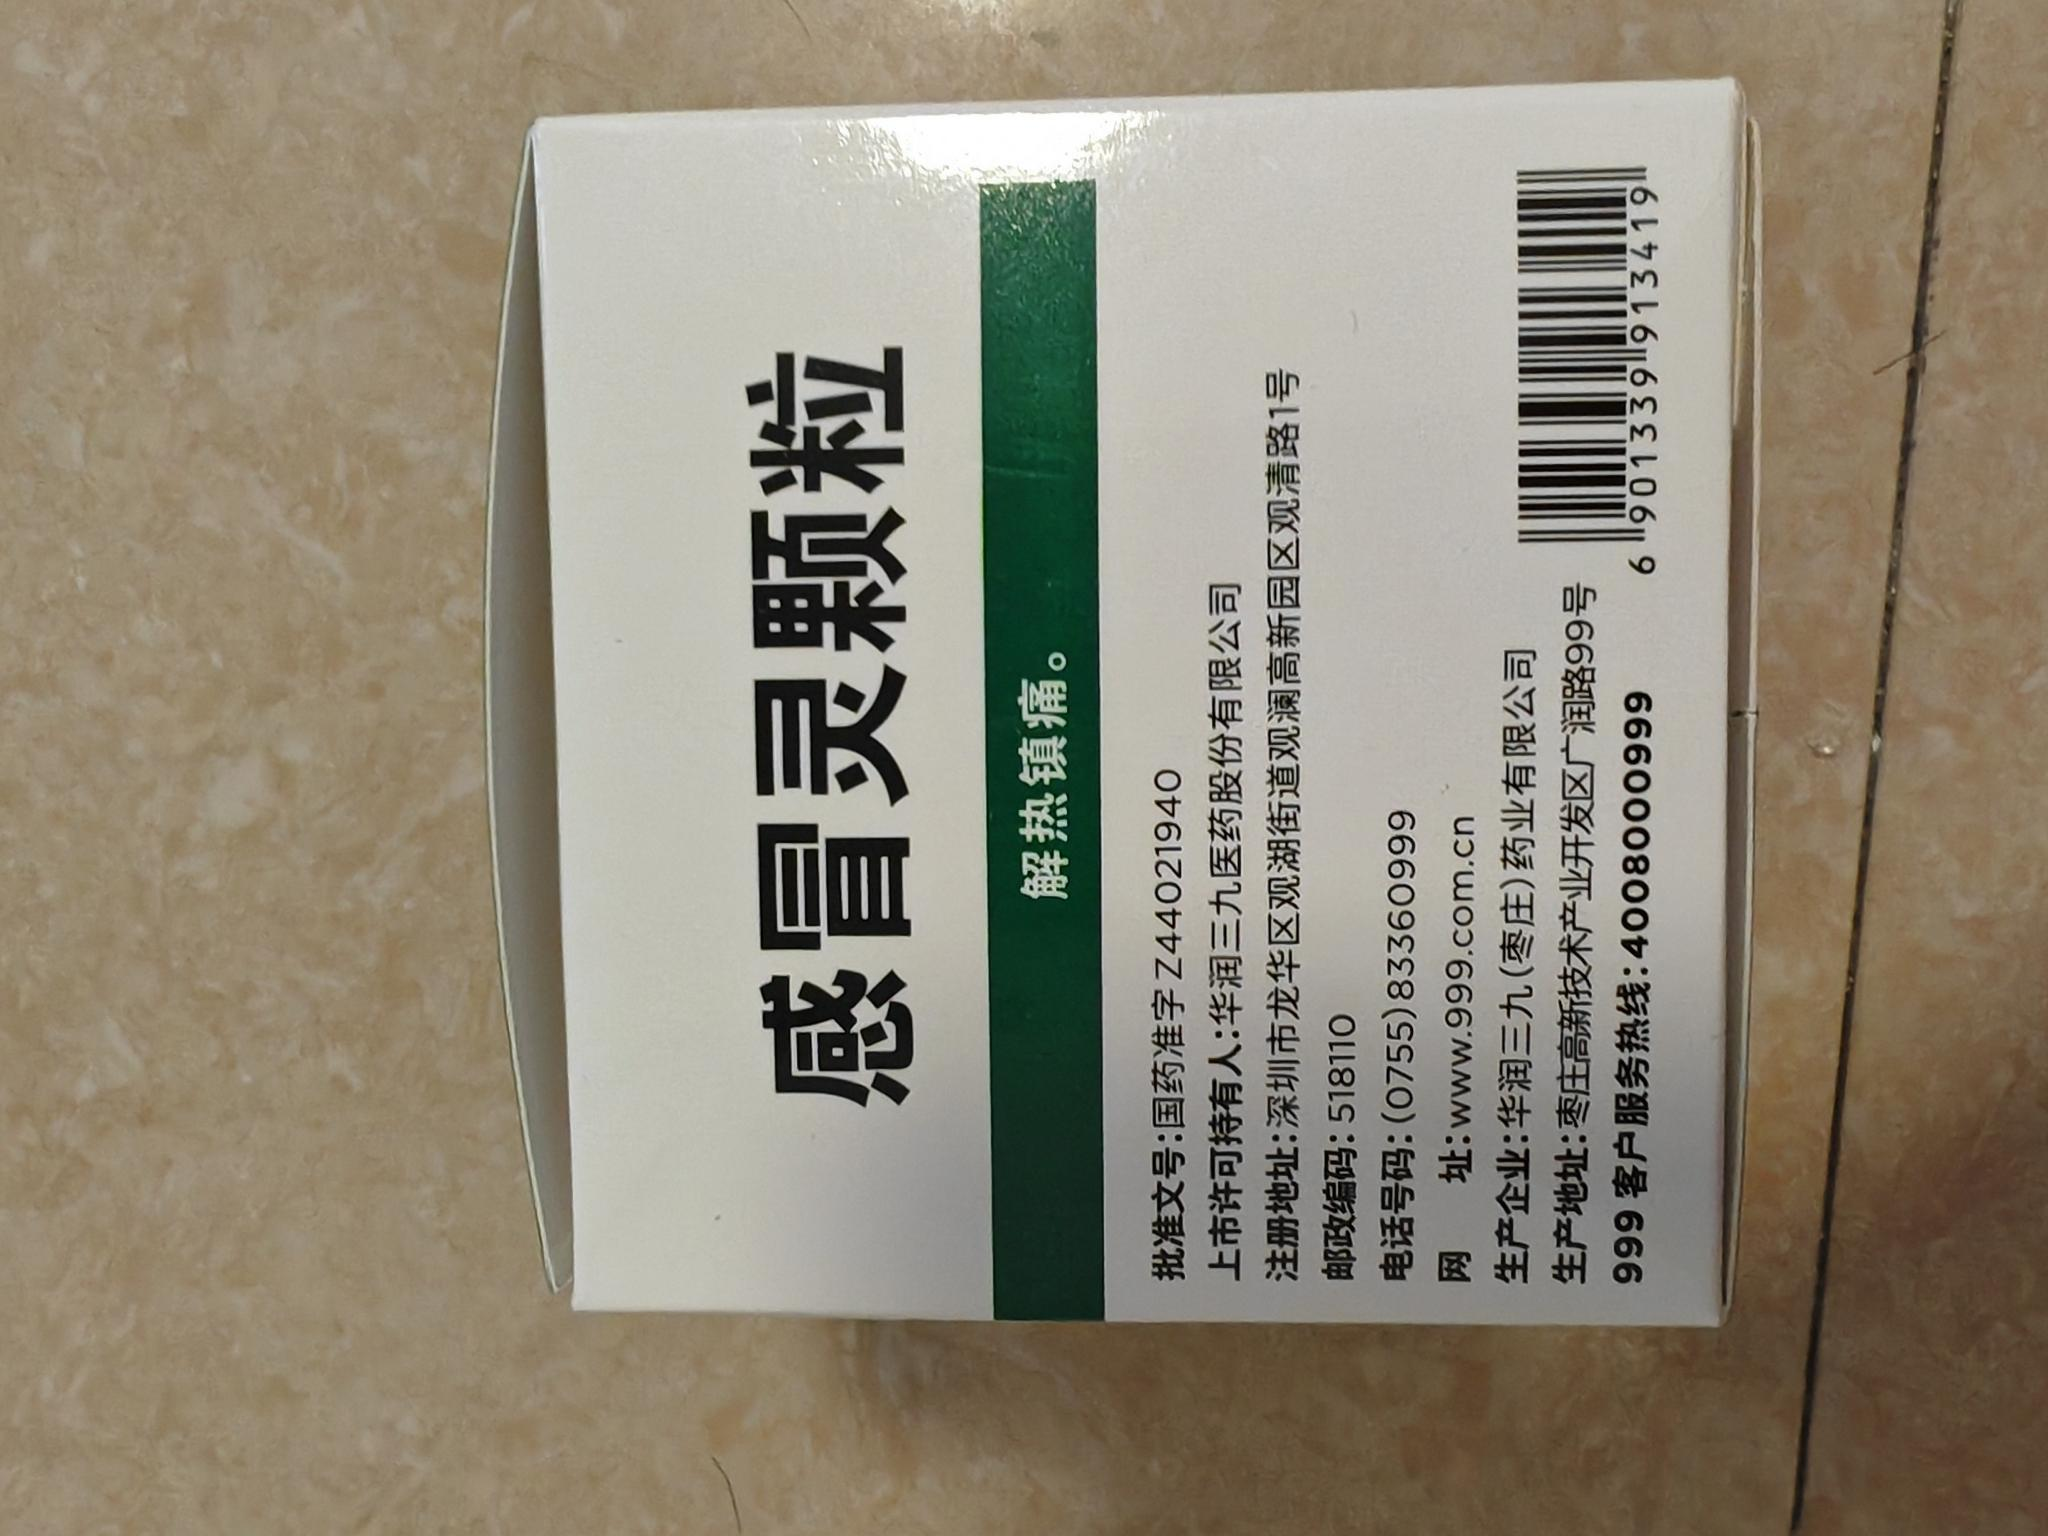Medicine3: (466, 68, 1772, 1376)
